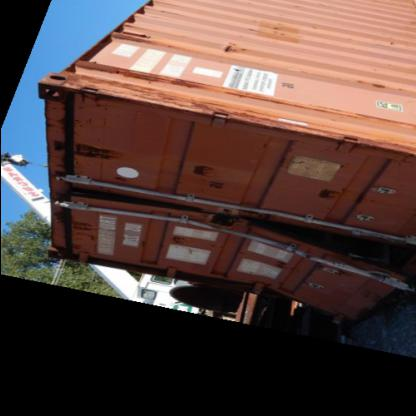Damage: (197, 183, 415, 296), (35, 53, 212, 107), (32, 114, 126, 168), (44, 204, 92, 247), (350, 74, 406, 98), (209, 38, 244, 62), (184, 162, 214, 182)
